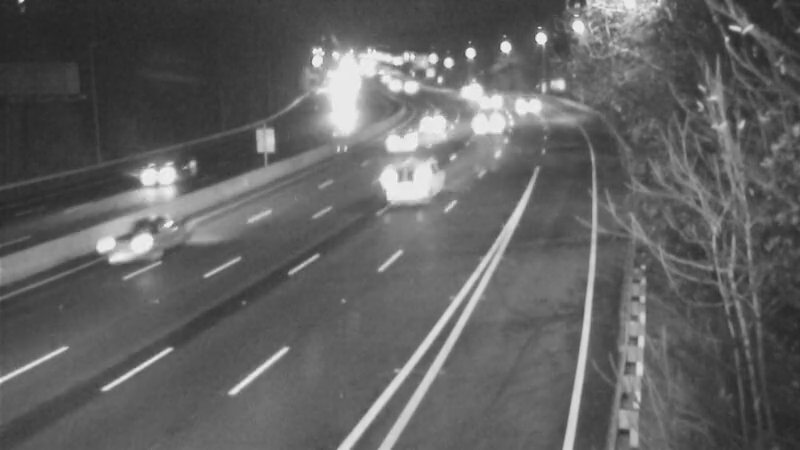vehicle: (365, 147, 445, 227), (93, 206, 173, 286), (124, 131, 204, 211), (440, 66, 490, 116), (506, 72, 556, 122), (462, 74, 512, 124), (404, 97, 454, 147), (463, 100, 513, 150), (375, 115, 425, 165)
